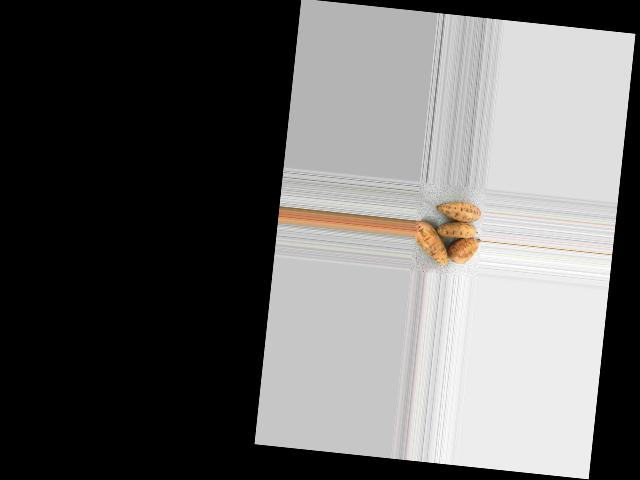sweet_potato: (410, 215, 451, 269)
